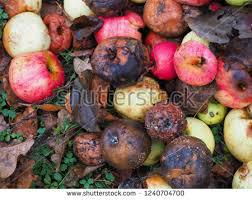damaged_apple: (8, 50, 66, 103), (91, 41, 149, 85), (159, 136, 211, 182), (42, 12, 99, 53), (100, 122, 151, 167), (171, 38, 217, 87), (214, 55, 251, 105), (143, 99, 188, 138), (92, 7, 141, 42), (145, 40, 185, 81), (4, 15, 49, 51), (141, 2, 185, 35), (71, 125, 105, 167)
